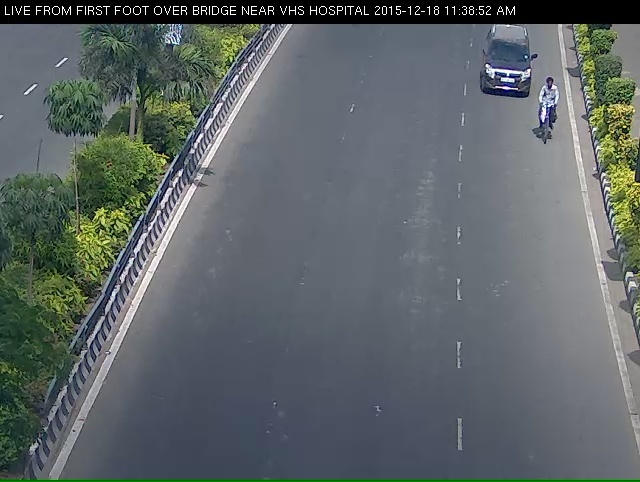Car: (473, 28, 536, 109)
